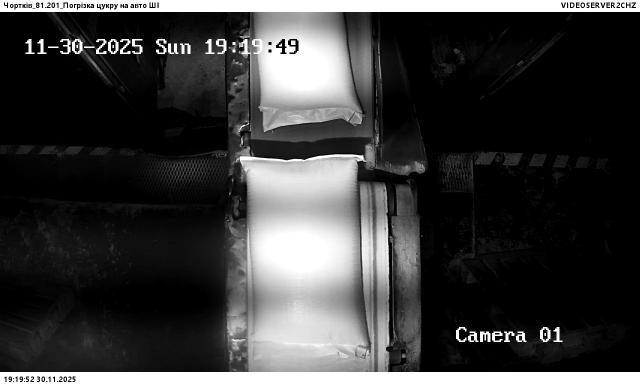bag: (239, 156, 371, 363), (254, 13, 364, 132)
